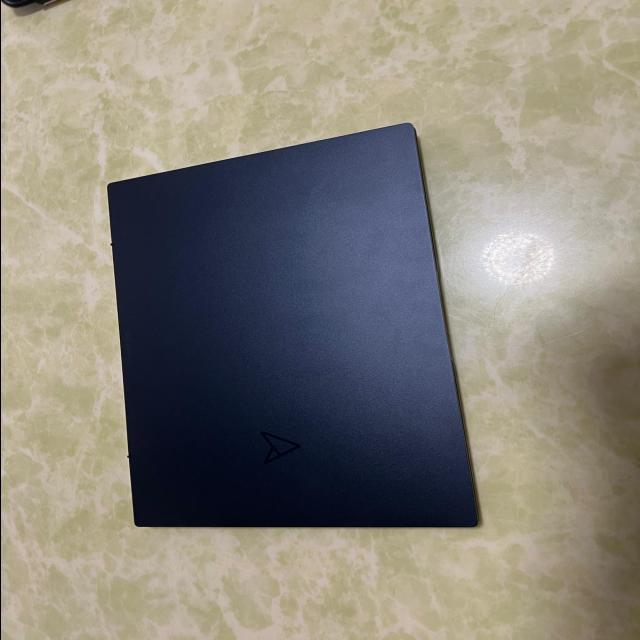laptop: (106, 121, 481, 528)
